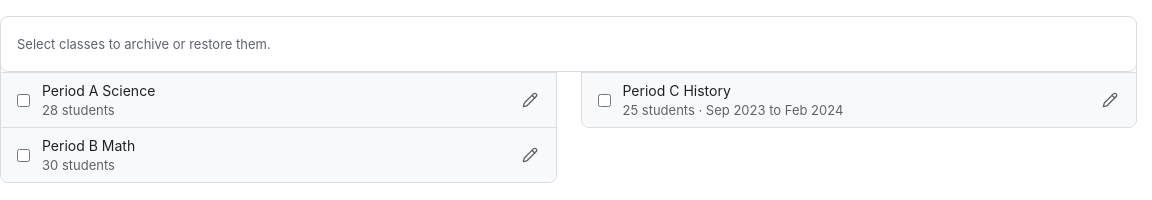
Test: ClassesView › locks one direction out once the other is chosen
Expected: the text "Period A Science" is shown, [42,81,155,101]
Click the checkbox labelled "Period A Science 28 students" at (24, 100), box [17,94,30,106]
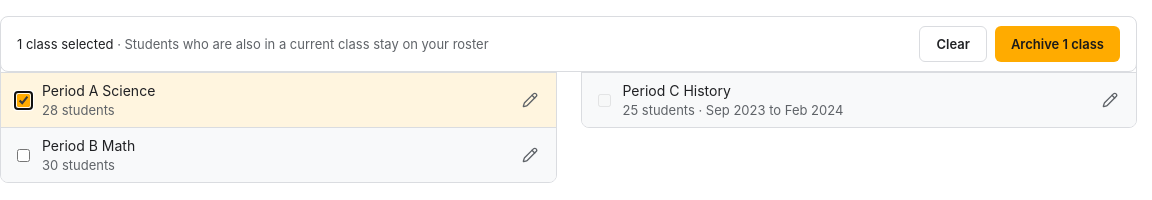
Expected: the button "Restore" is not shown
Click the checkbox labelled "Period A Science 28 students" at (24, 100), box [17,94,30,106]
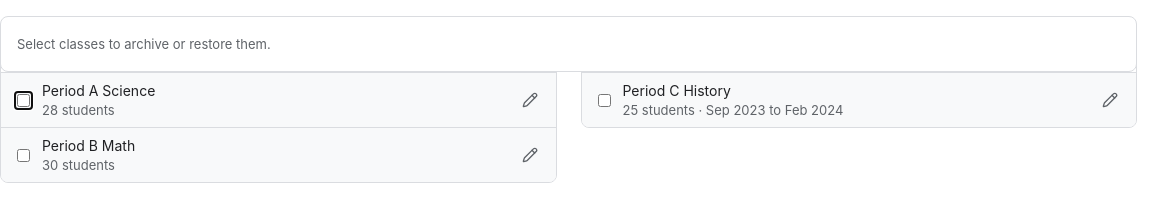
Click the checkbox labelled "Period C History 25 students · Sep 2023 to Feb 2024" at (604, 100), box [598,94,610,106]
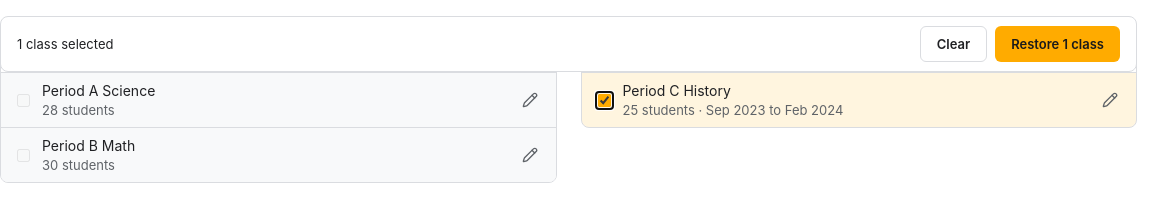
Expected: the button "Restore 1 class" is enabled, [995,26,1120,62]
